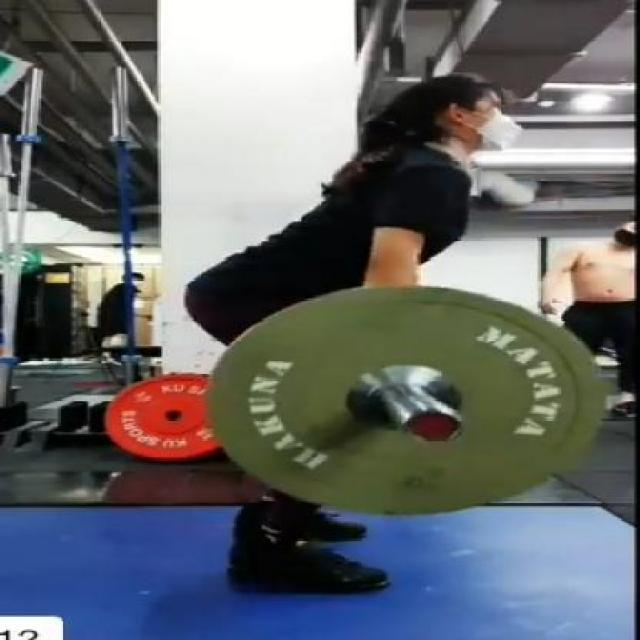Barbell: (398, 405, 471, 450)
